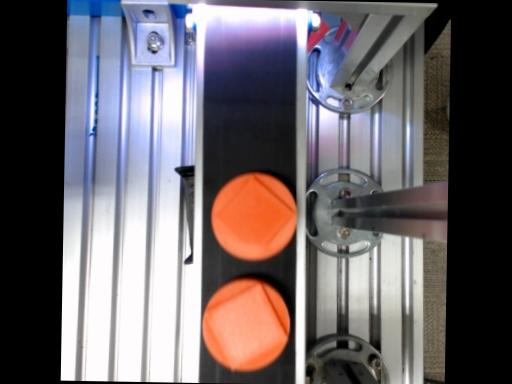Orange_Waper: (203, 278, 289, 370), (212, 172, 296, 260)
